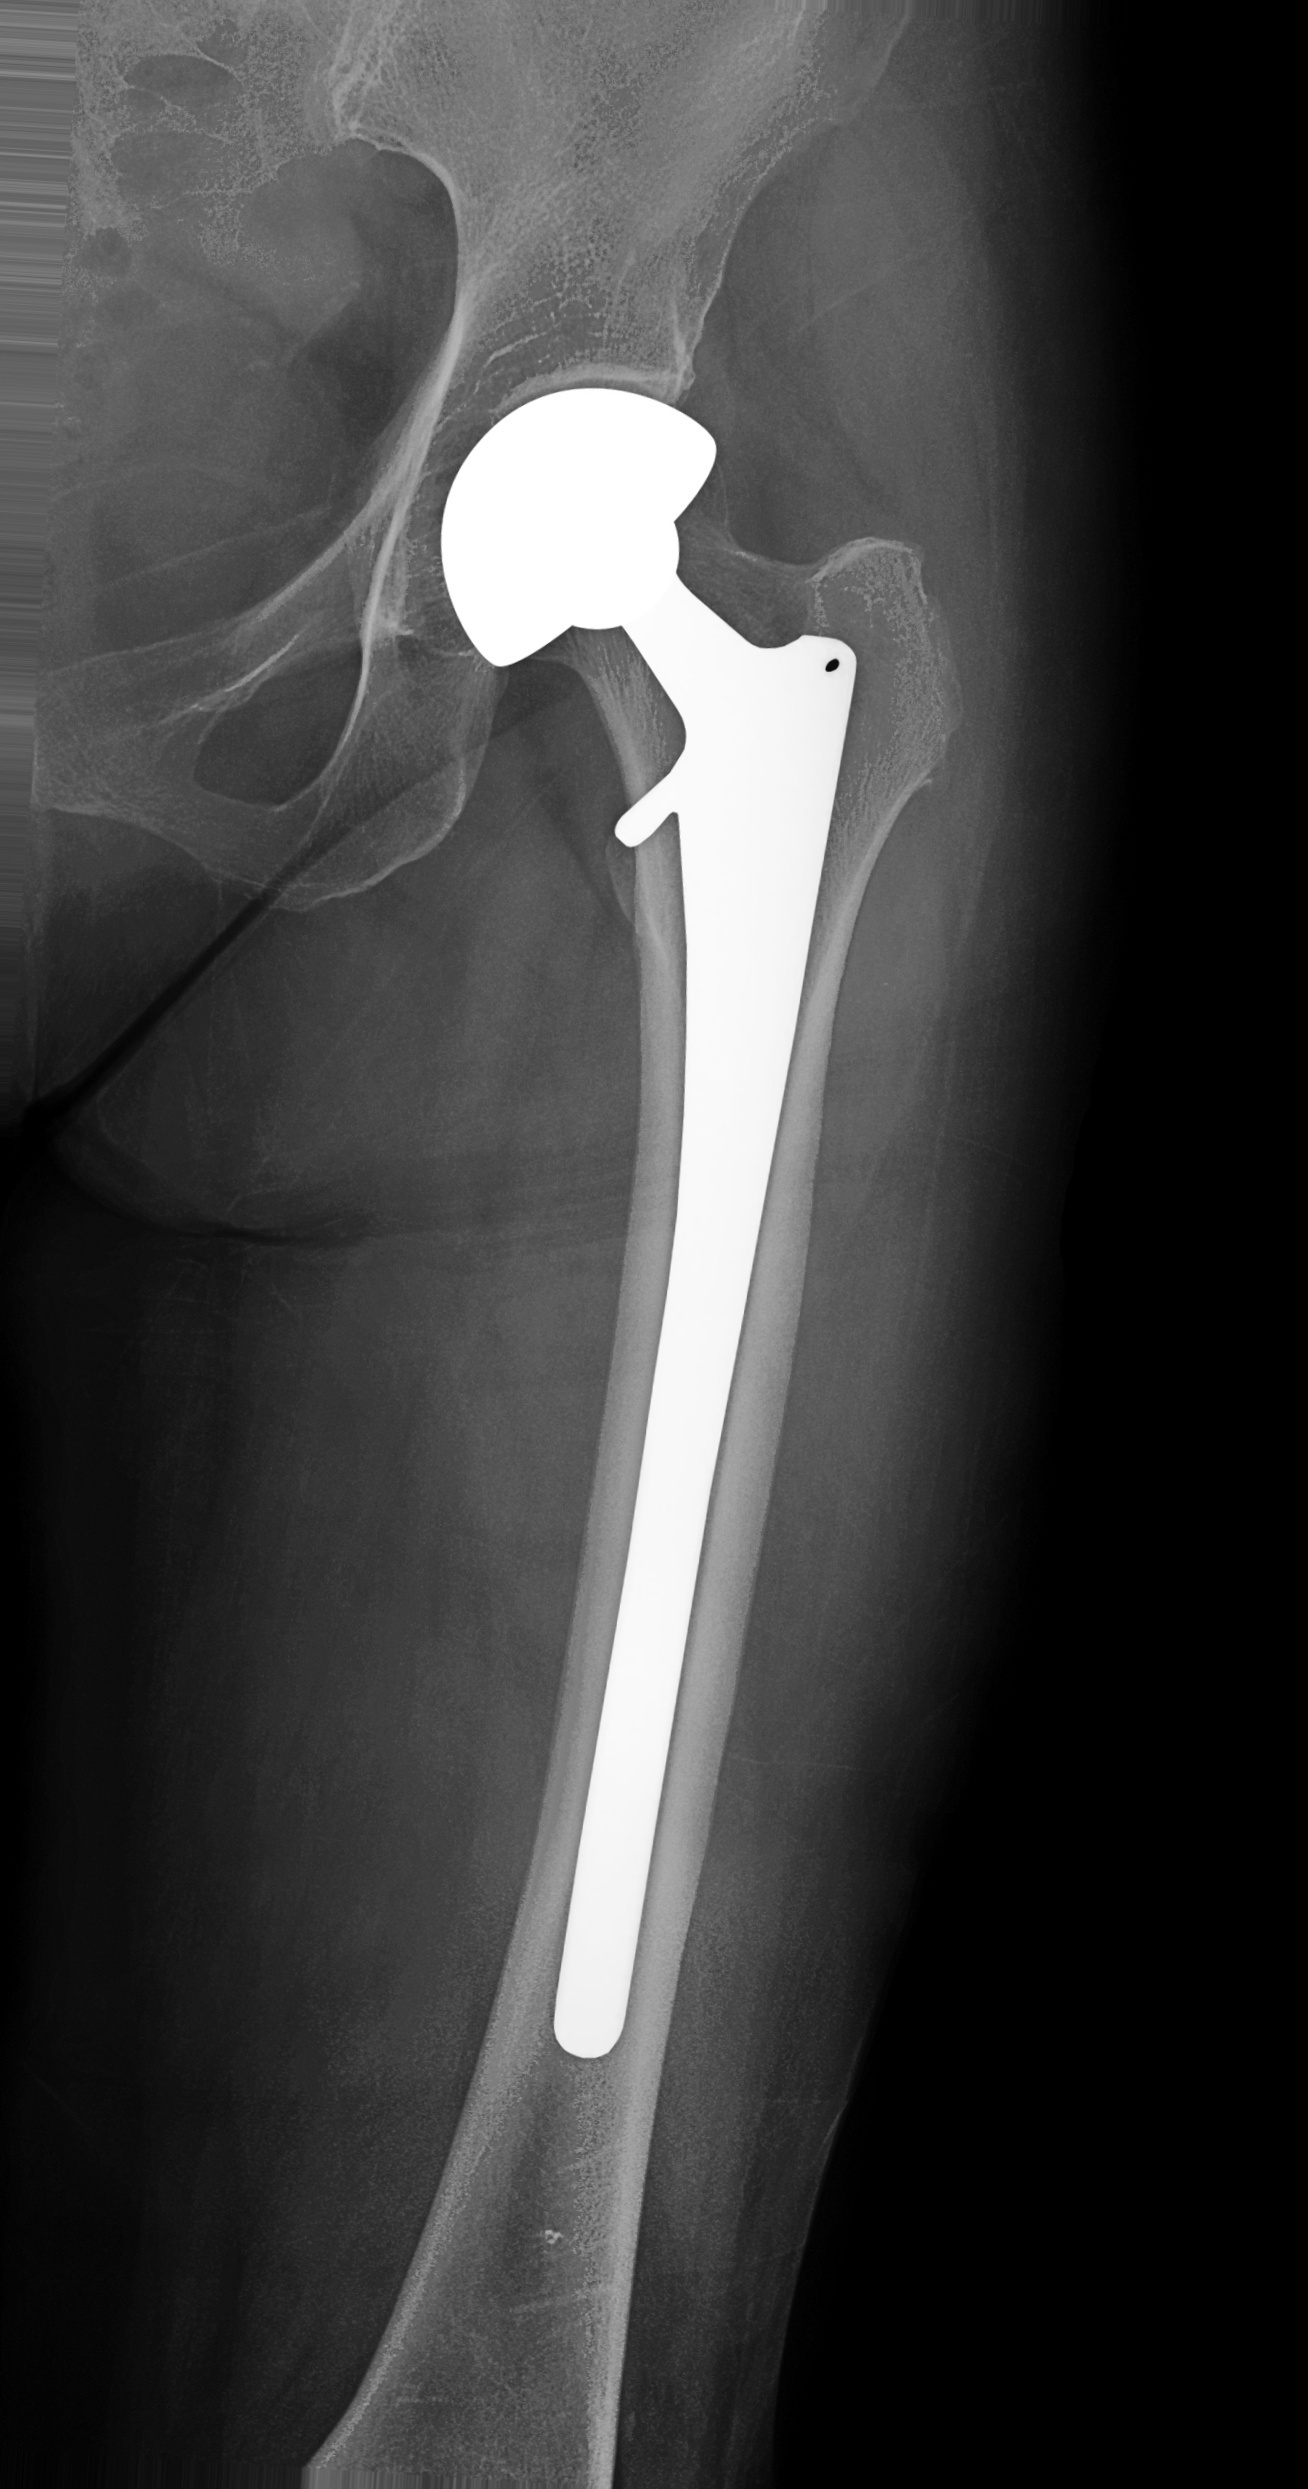Hip-Bias-Zimmer: (398, 390, 857, 2063)
